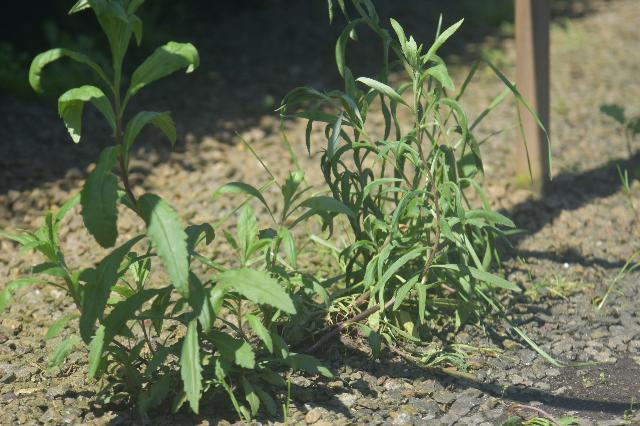MalezaMontesDelPlata: (28, 0, 234, 407), (268, 77, 429, 330), (325, 0, 540, 183), (226, 175, 360, 401), (337, 183, 528, 327), (1, 196, 120, 394)
